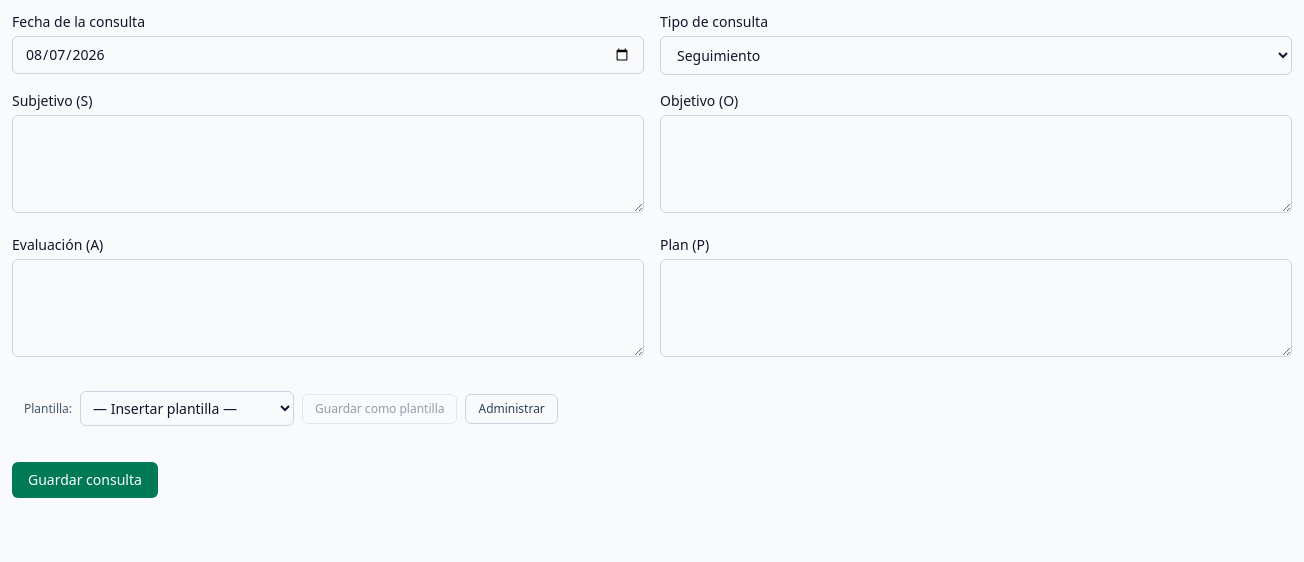
it: ConsultationForm templates › does not offer deletion until the practitioner asks to manage
Check: the button "Eliminar" is not shown
What coordinates should you click on to do the following:
click the button "Administrar"
I would click on:
 (512, 408)
Its box is [466,394,558,424].
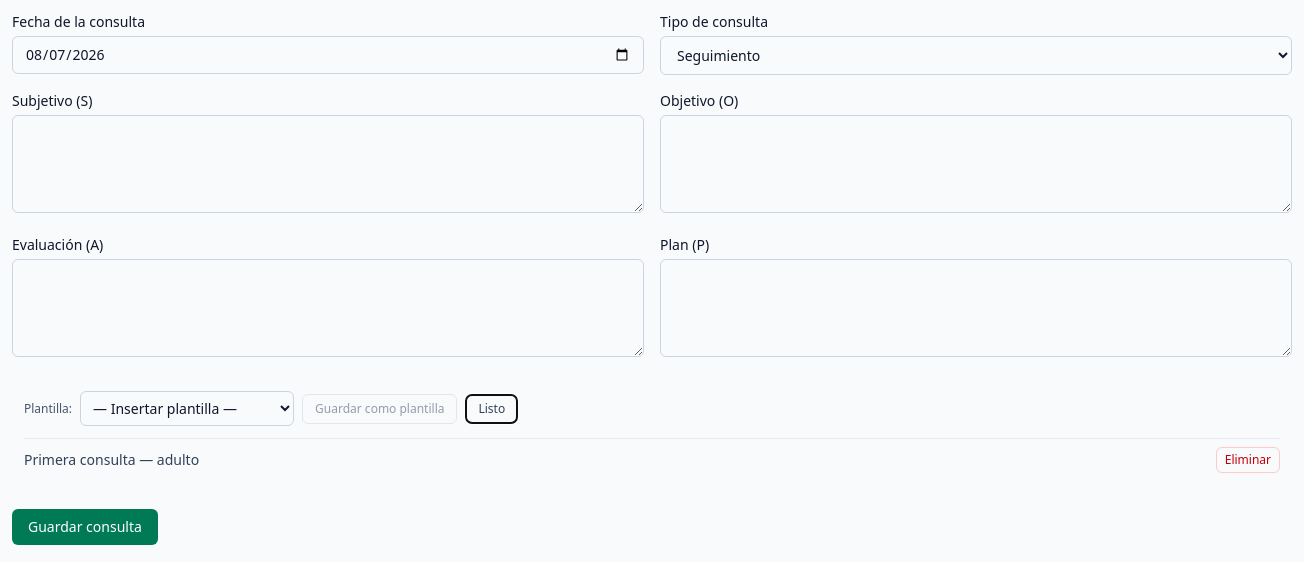
Check: the button "Eliminar" is shown, box [1216,447,1280,473]
